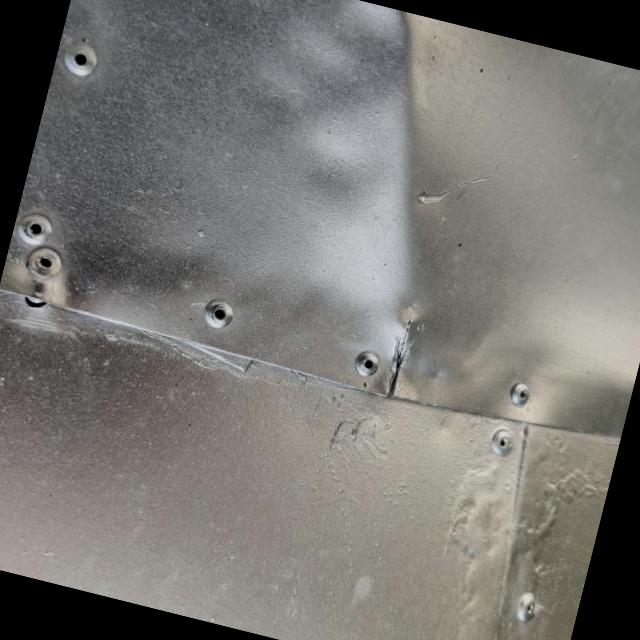crack: (359, 300, 444, 416)
dent: (264, 0, 514, 323)
